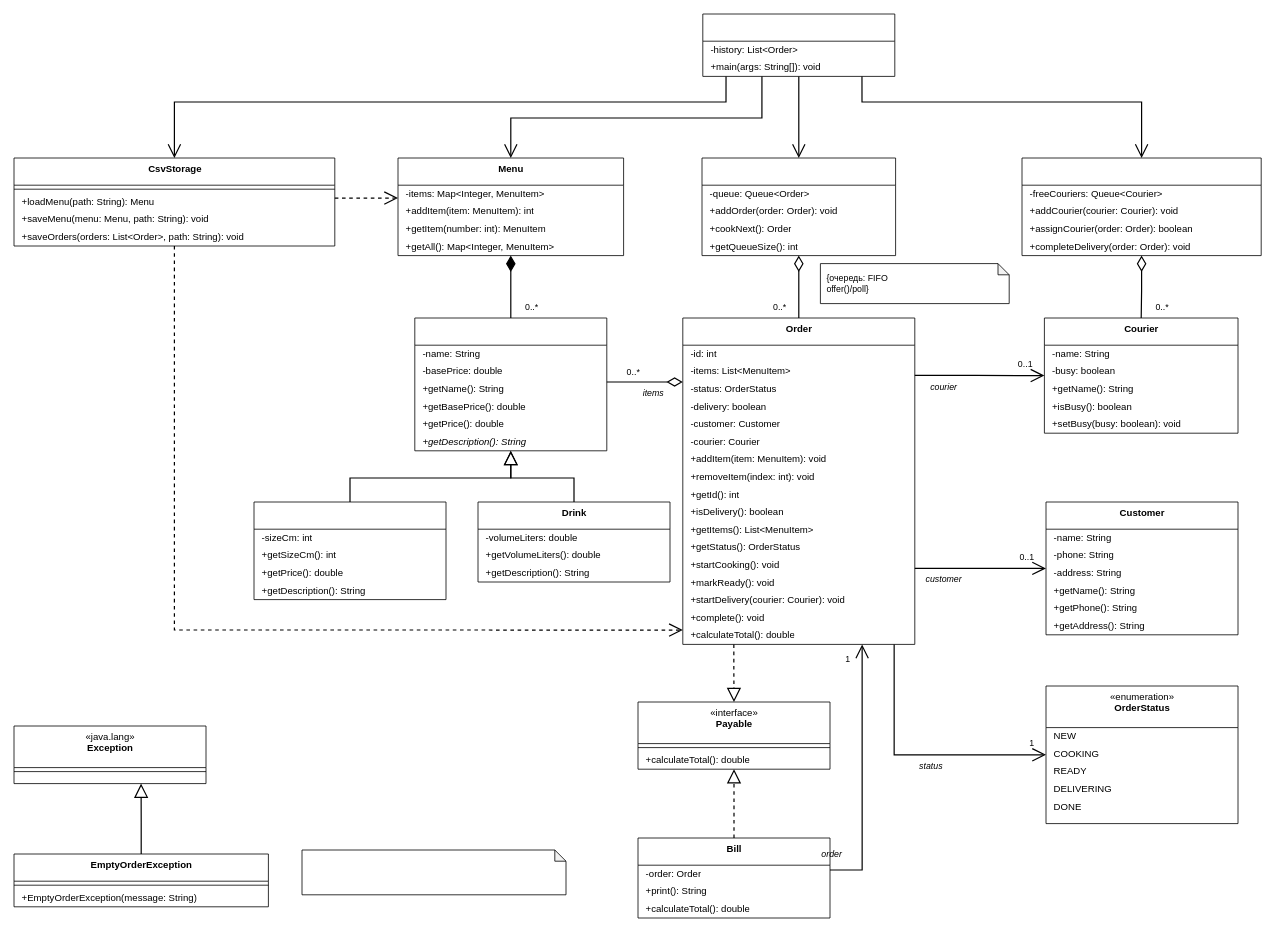
Some shapes in this 1275 by 932 pixel diagram are drawn without their labels. Each missing label, with the box of its shape:
ConsoleApp: (702, 13, 895, 76)
DeliveryService: (1021, 157, 1261, 256)
Kitchen: (701, 157, 896, 256)
MenuItem: (414, 317, 607, 451)
Pizza: (253, 501, 446, 600)
Выбрасывается в Kitchen.addOrder(), если заказ пустой (нет позиций): (301, 849, 566, 895)
